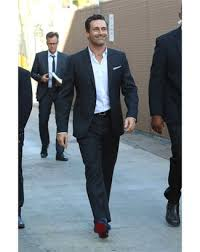F_M_suit jacket: (53, 43, 143, 139), (27, 50, 78, 105)
F_belt: (82, 108, 119, 121)
F_dress pants: (76, 119, 125, 226), (34, 89, 69, 152)
